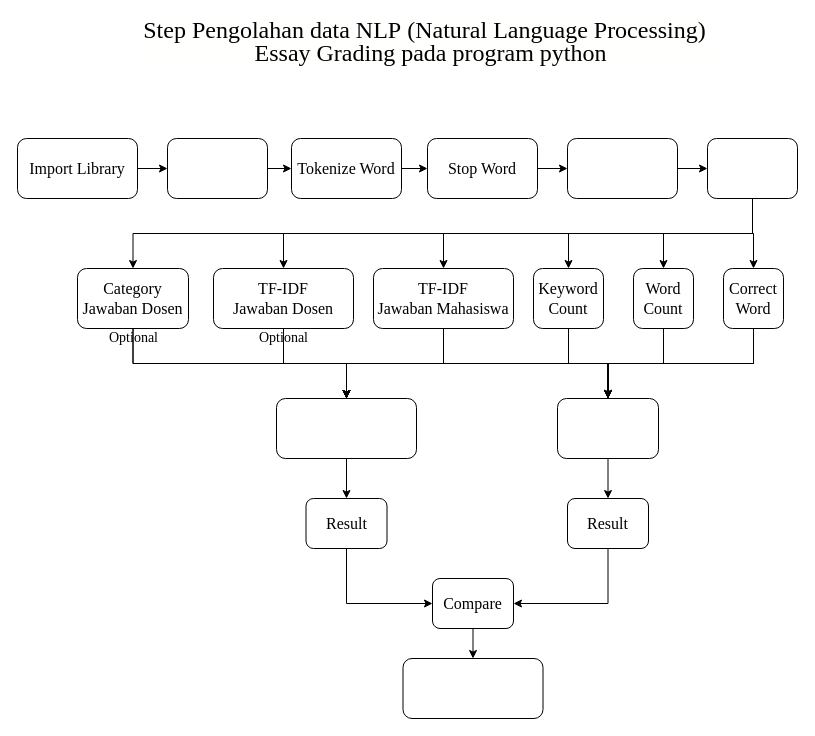
Image size: 815x736. Some labels were removed from this diagram. Here are the shapes that lost their labels. From the top down, the box of each, then its label:
(166, 138, 268, 198): Load Data to Python
(566, 138, 678, 198): Stem Word
(706, 138, 798, 198): Feature Extraction
(276, 398, 416, 458): Linear Regression
(556, 398, 658, 458): SVR
(402, 658, 543, 718): Kesimpulan
